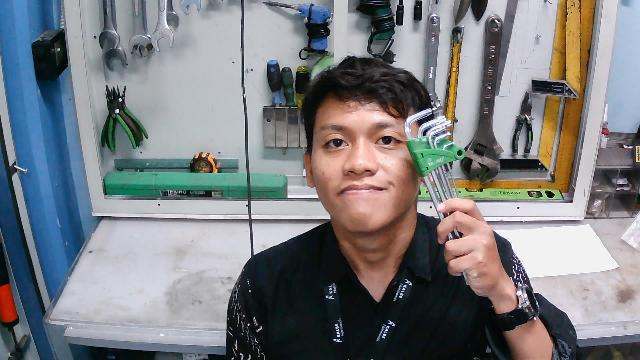kunci_l_bintang: (400, 107, 487, 287)
